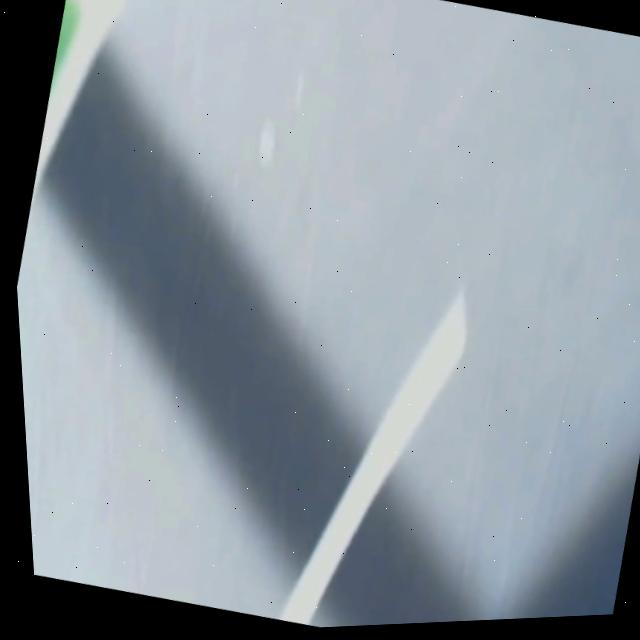center: (279, 290, 467, 625)
right: (30, 0, 128, 208)
